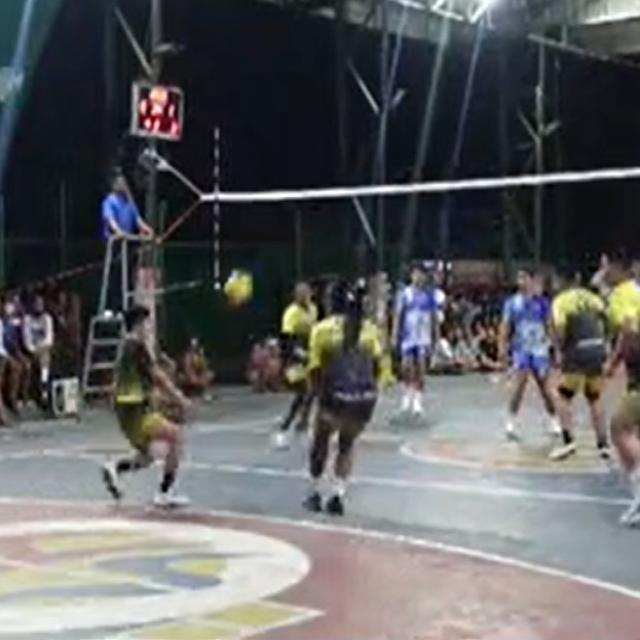volleyball: (223, 270, 251, 306)
